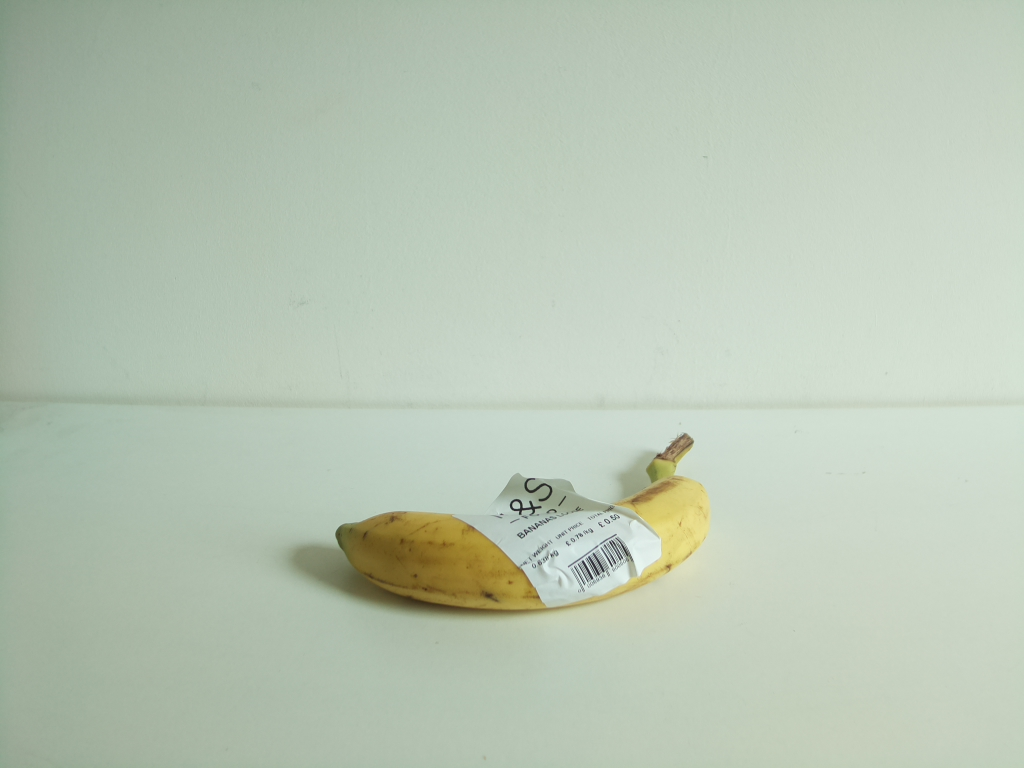banana: (336, 431, 717, 612)
